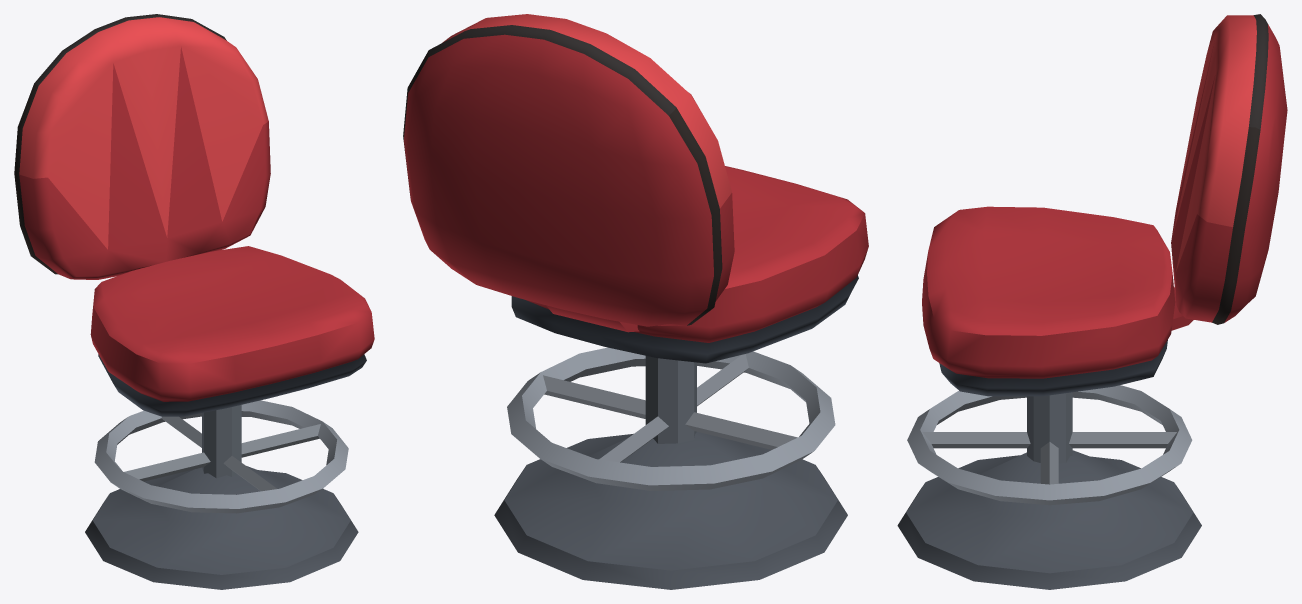
The model's file is cadeira_alta_cassino_pacote.glb.
The picture shows the model from 3 angles, left to right: view 1: azimuth 30°, elevation 25°; view 2: azimuth 150°, elevation 25°; view 3: azimuth 270°, elevation 25°; orthographic projection. The views are drawn at different scales.
Parts seen in each view (by area): view 1: cadeira_alta_cassino_pacote; view 2: cadeira_alta_cassino_pacote; view 3: cadeira_alta_cassino_pacote.
Part boxes in pixels (left/top/right/bottom): cadeira_alta_cassino_pacote: left=14, top=14, right=374, bottom=589; cadeira_alta_cassino_pacote: left=403, top=14, right=868, bottom=589; cadeira_alta_cassino_pacote: left=897, top=14, right=1287, bottom=589.
Size of the model in its own units: 0.6326 by 1.1 by 0.786.
1 material, 1 textured.
